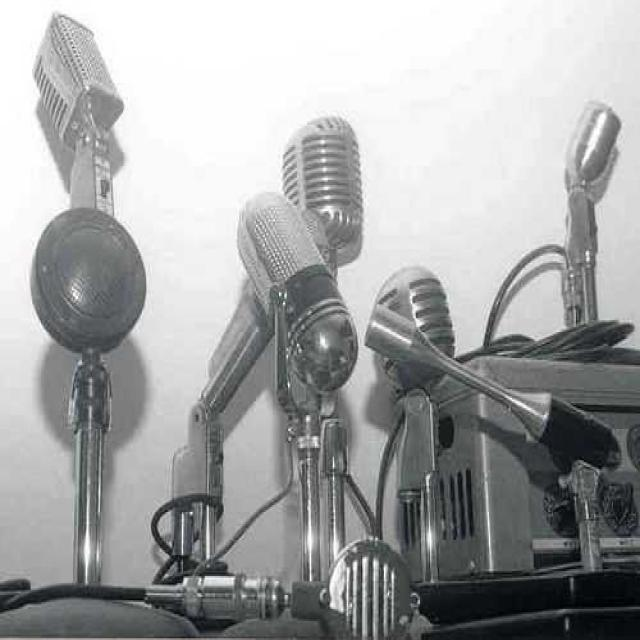microphone: (230, 186, 370, 385), (372, 270, 528, 415), (30, 6, 142, 162), (274, 112, 372, 250), (559, 98, 632, 192)
